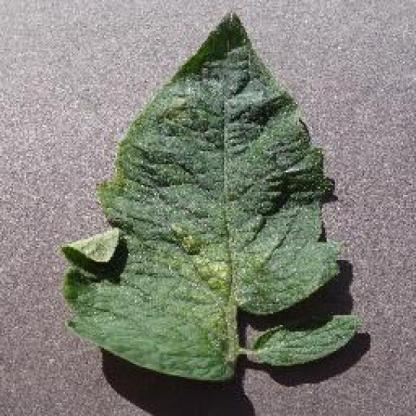Strawberry_Blossom_Blight: (230, 220, 300, 271), (126, 248, 198, 283), (197, 73, 266, 109), (132, 134, 179, 178), (230, 147, 267, 197)
